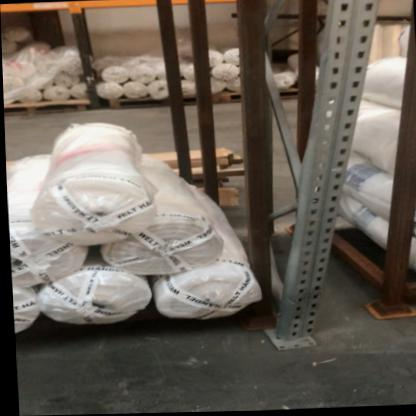vertical_damage: (256, 309, 336, 362)
